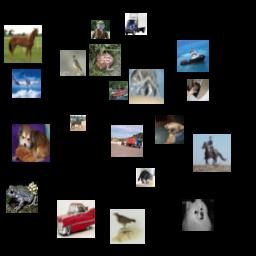airplane: (12, 69, 41, 98)
automobile: (57, 200, 95, 238)
bird: (110, 209, 145, 244), (60, 50, 86, 76)
cat: (129, 69, 164, 104), (136, 168, 155, 187)
dog: (12, 124, 50, 162), (182, 199, 214, 231), (155, 115, 184, 144), (187, 79, 209, 101)
frog: (6, 181, 38, 213), (89, 44, 121, 76)
ship: (177, 40, 209, 72), (109, 81, 128, 100)
truck: (111, 125, 143, 157), (125, 13, 147, 35)
